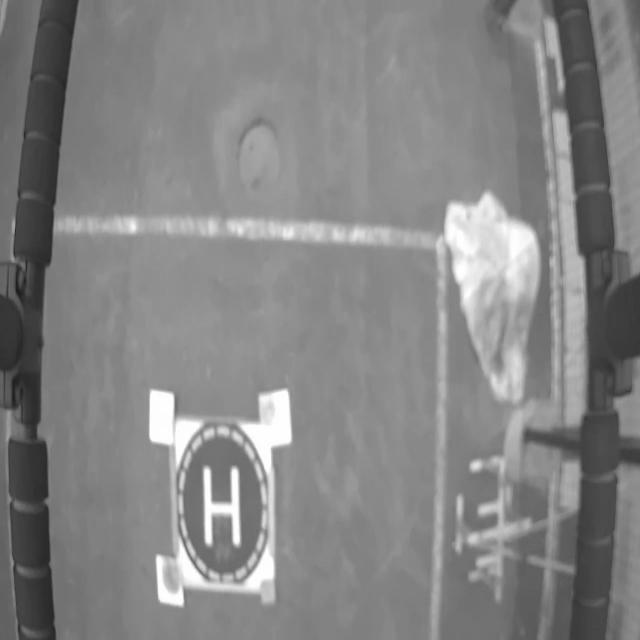Helipad: (202, 466, 240, 547)
